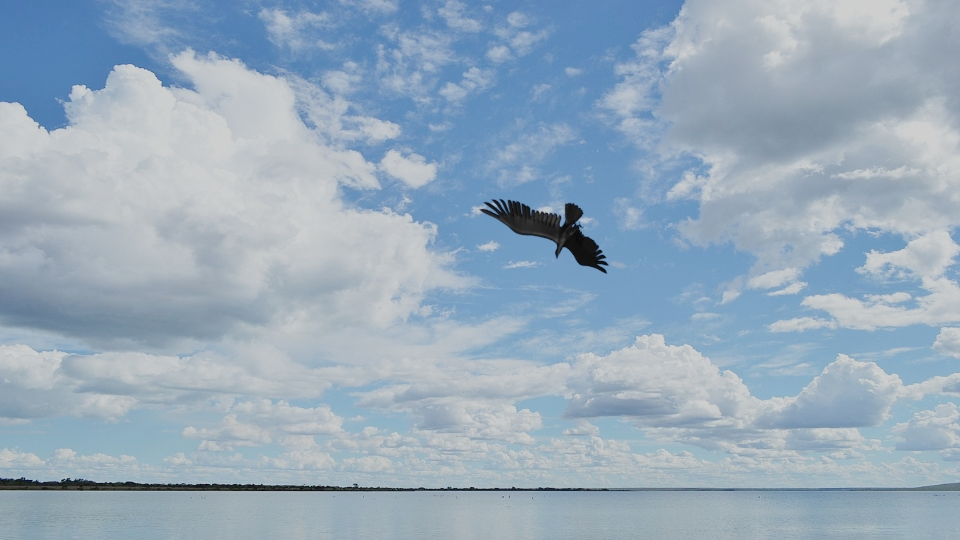bird: (479, 196, 608, 274)
